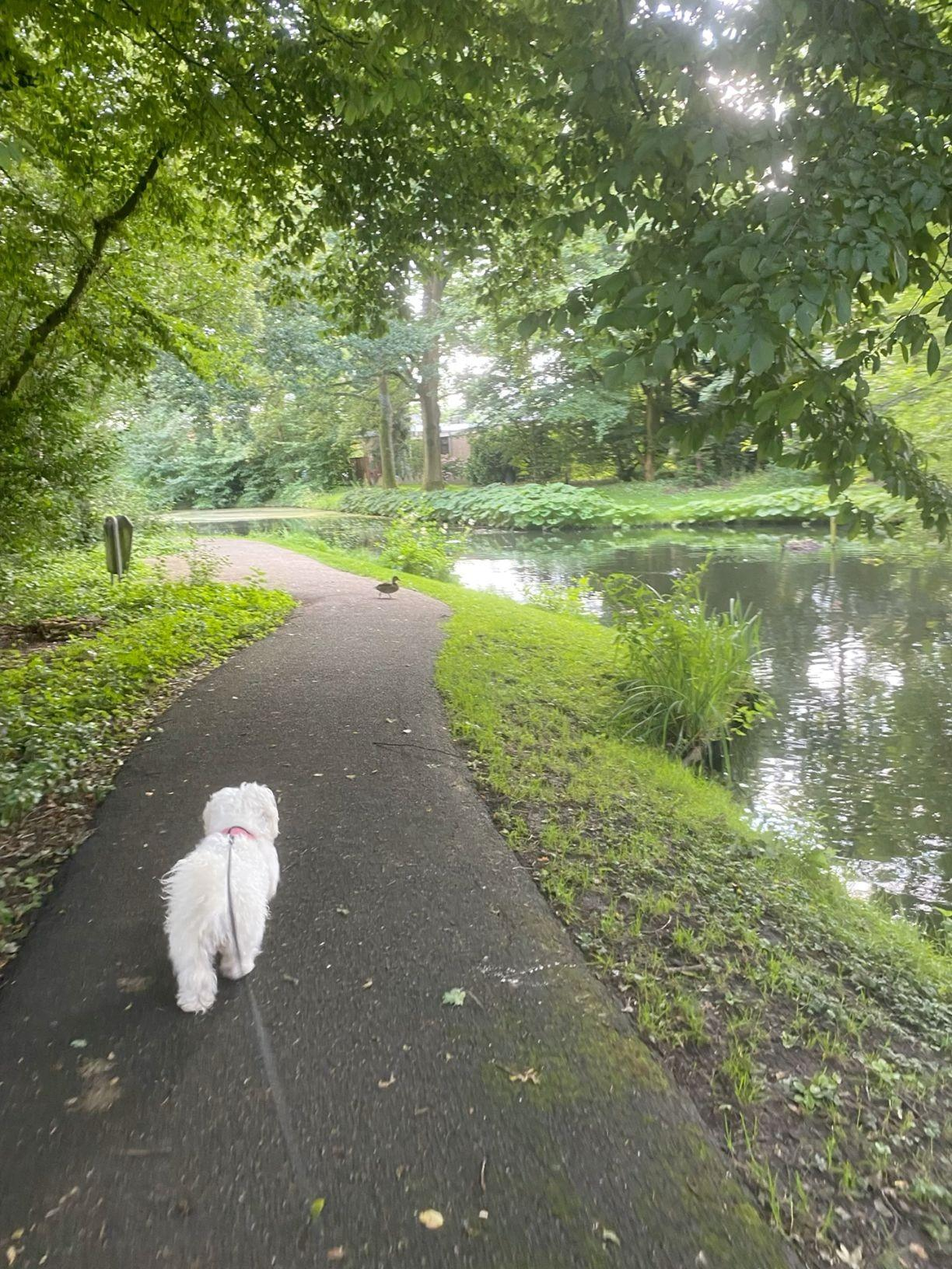adult_dog: (159, 781, 282, 1015)
non-dog: (376, 575, 401, 599)
